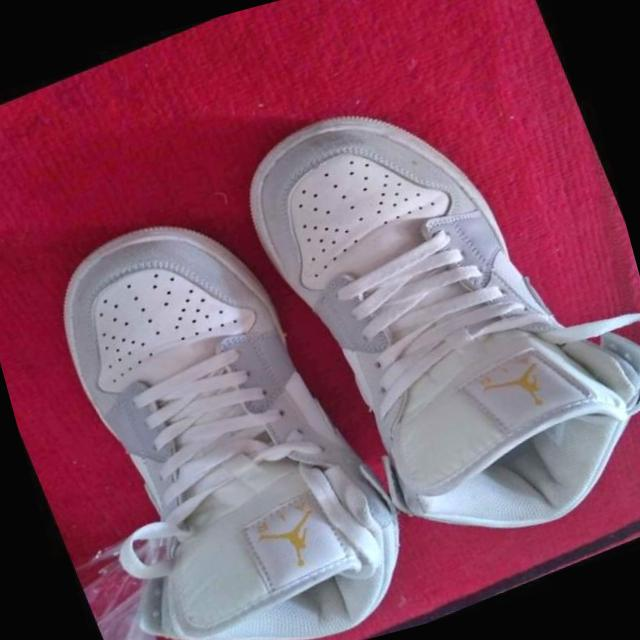nike_fake_jordan: (215, 26, 640, 600), (0, 163, 436, 640)
